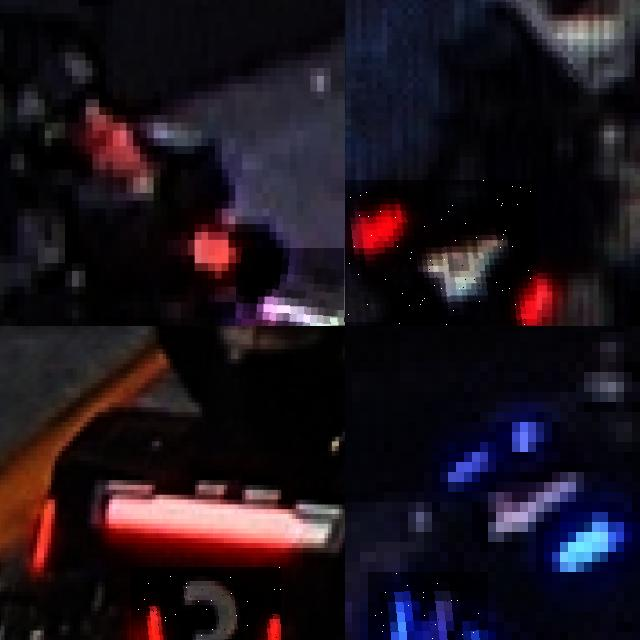B4: (368, 572, 488, 640)
R1: (235, 247, 344, 326)
R3: (130, 567, 281, 640)
R4: (345, 180, 536, 326)
